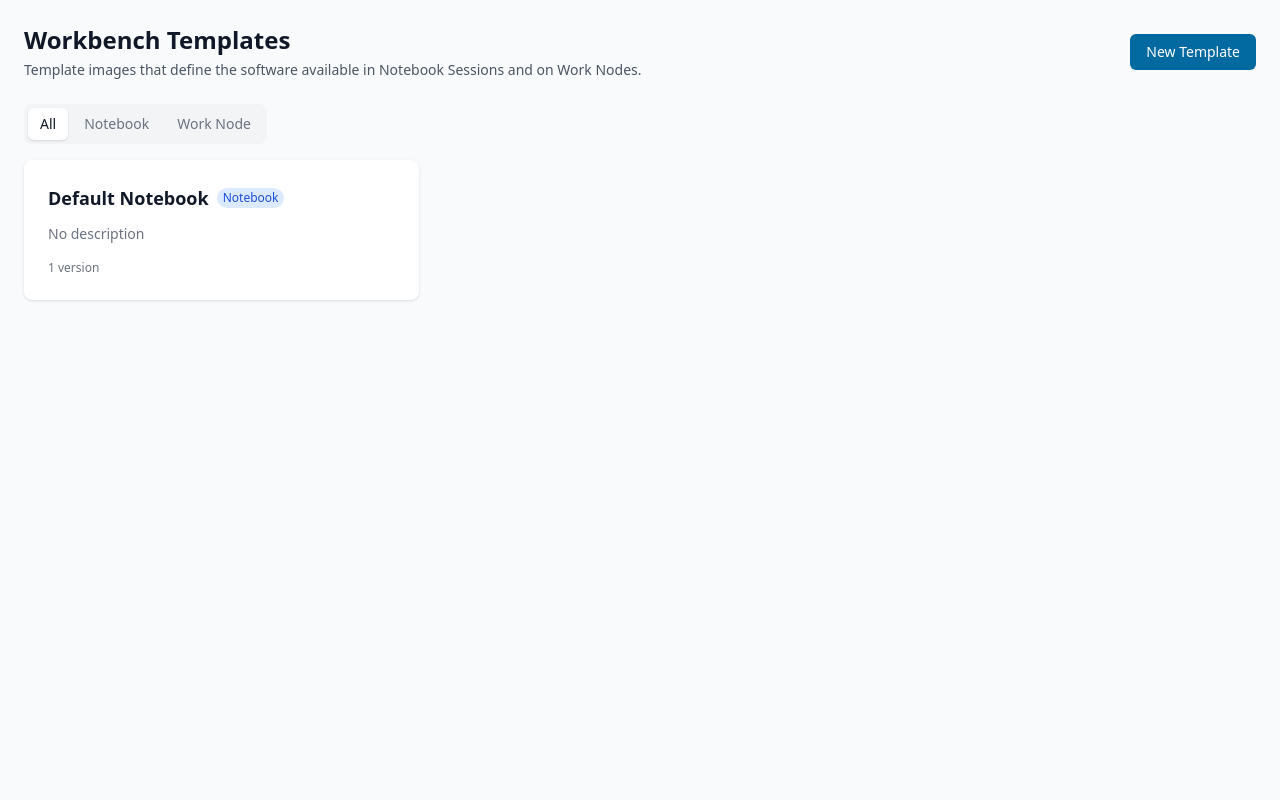
Workbench EnvironmentsPage rebuild when the template cannot be read › does not claim the template has been updated
This screenshot has width=1280, height=800.
Click the heading "Default Notebook". click: (128, 198)
box: [48,184,209,212]
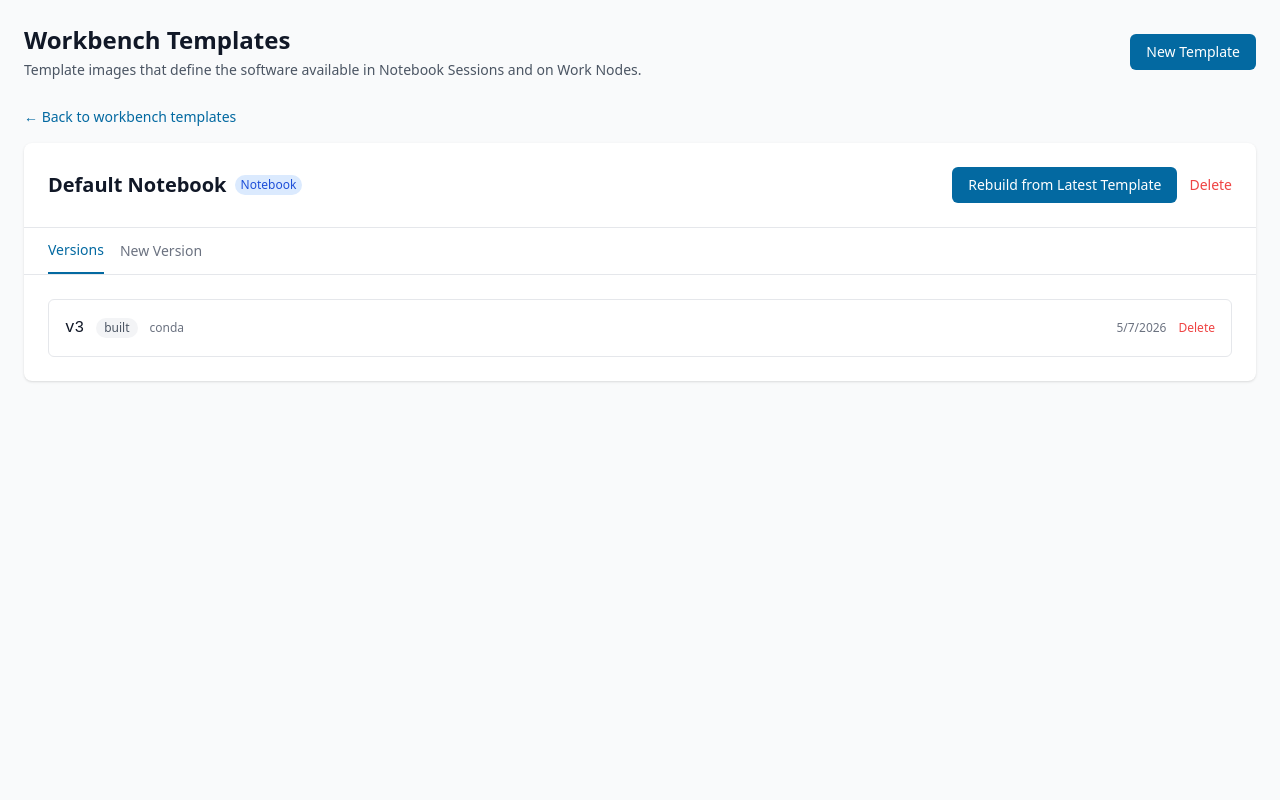
Click the button "Rebuild from Latest Template". click: (1065, 185)
box: [952,167,1177,203]
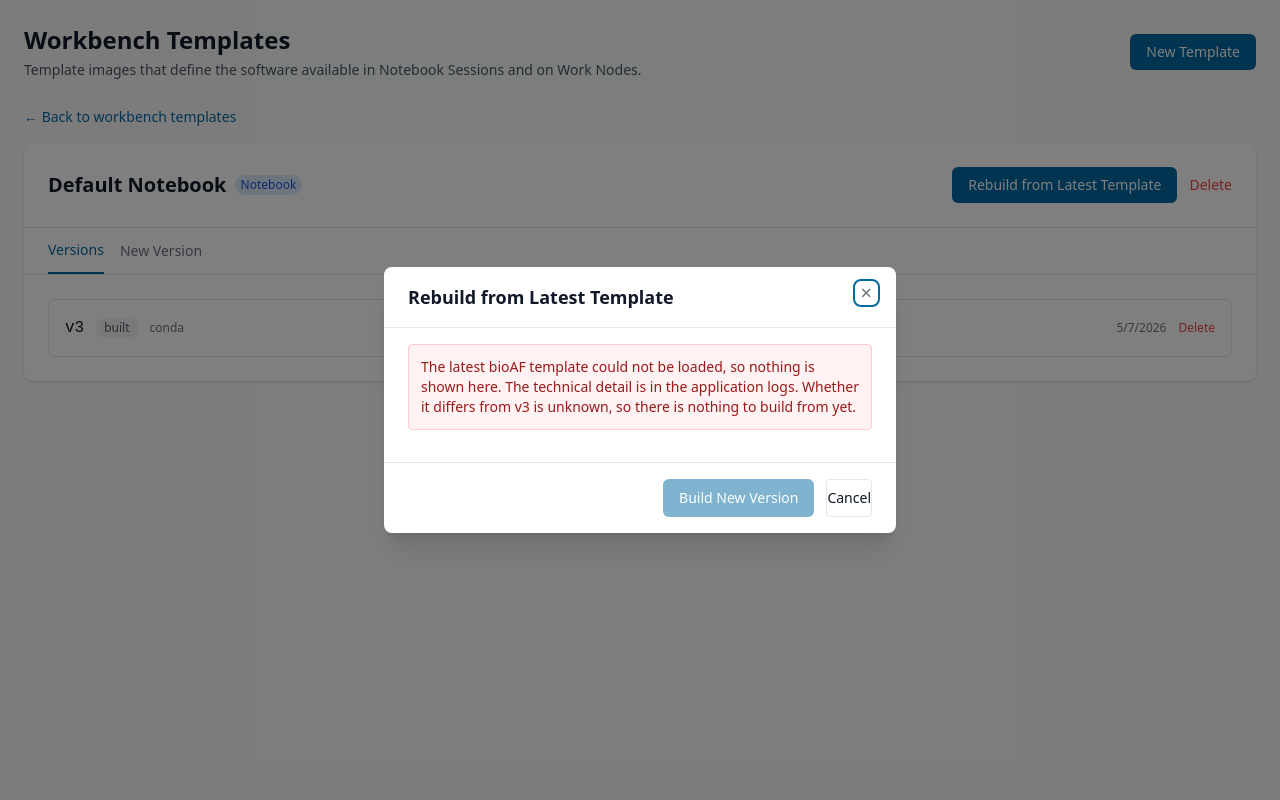
Expected: the message with test id "rebuild-template-load-failed" is shown, [408,344,872,430]
